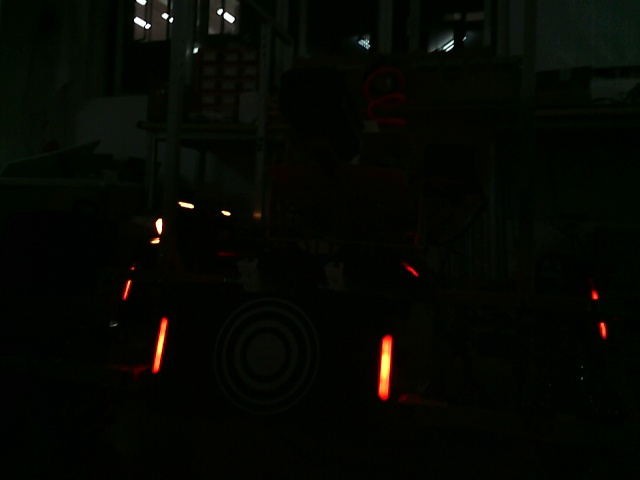lamp: (372, 333, 399, 401), (150, 314, 170, 377)
